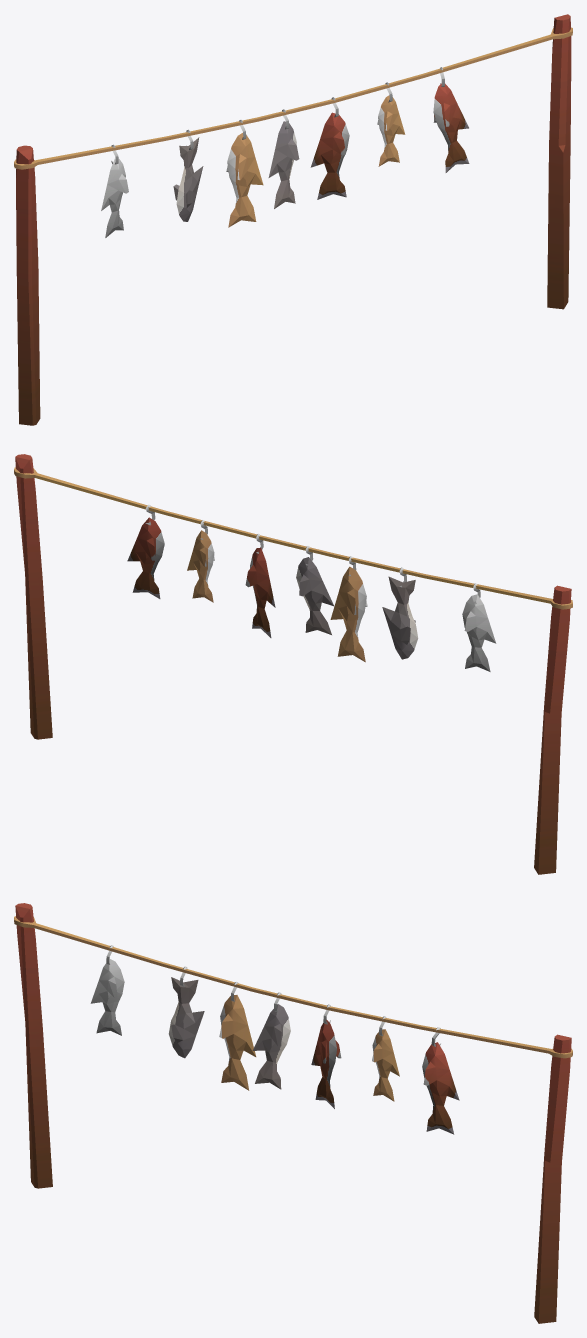
3 views of the same model, one above another, from view 1: azimuth 30°, elevation 25°; view 2: azimuth 150°, elevation 25°; view 3: azimuth 330°, elevation 25° (orthographic).
Visible parts, largest first — view 1: DriedFish; view 2: DriedFish; view 3: DriedFish.
Boxes of the visible parts, x1,y1,x2,y2 form: DriedFish: [14, 14, 572, 425]; DriedFish: [14, 454, 572, 874]; DriedFish: [14, 903, 572, 1323].
Size of the model in its own units: 200 by 95.91 by 15.49.
1 material, 1 textured.
